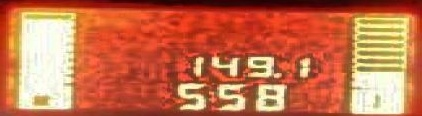-: (271, 70, 284, 79)
1: (289, 53, 315, 78), (188, 53, 201, 77)
4: (209, 53, 237, 77)
5: (211, 82, 245, 113), (172, 80, 206, 111)
8: (253, 82, 284, 112)
9: (245, 53, 271, 77)
